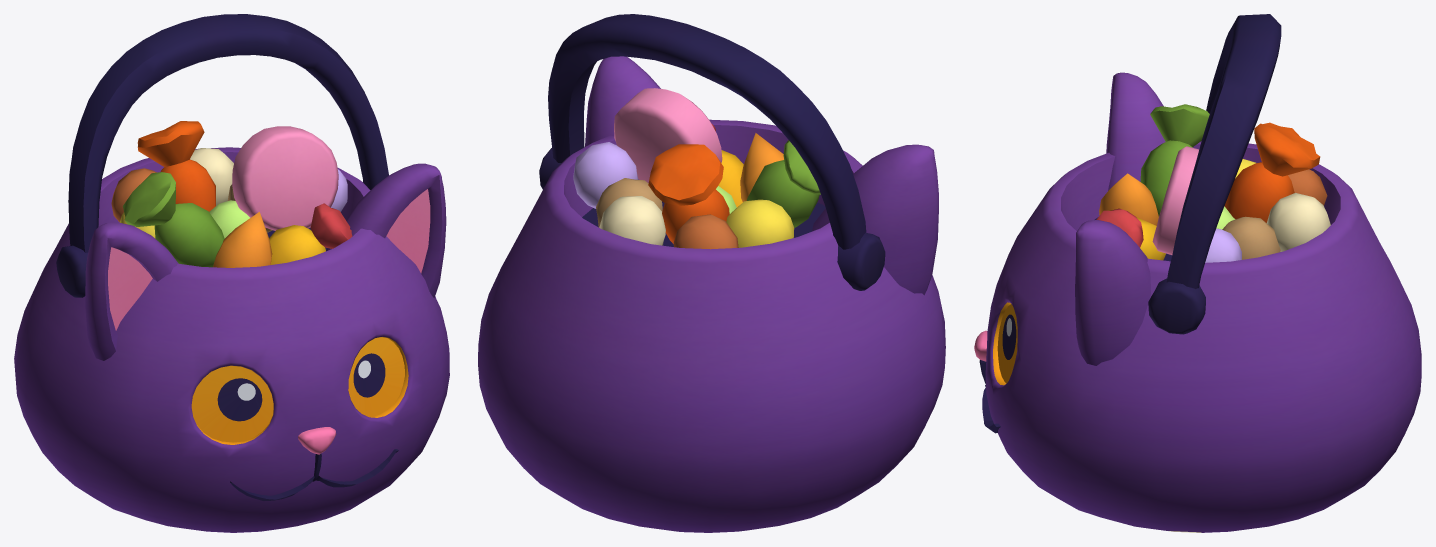
The model's file is WBA_CandyBucket_Set_03.fbx.
The picture shows the model from 3 angles, left to right: view 1: azimuth 30°, elevation 25°; view 2: azimuth 150°, elevation 25°; view 3: azimuth 270°, elevation 25°; orthographic projection. The views are drawn at different scales.
Parts seen in each view (by area): view 1: WBA_CandyBucket_Set_03; view 2: WBA_CandyBucket_Set_03; view 3: WBA_CandyBucket_Set_03.
Boxes of the visible parts, <box> form: WBA_CandyBucket_Set_03: <box>14,14,449,532</box>; WBA_CandyBucket_Set_03: <box>478,14,945,532</box>; WBA_CandyBucket_Set_03: <box>974,14,1421,532</box>.
Bounding box in the file's own units: 26.17 × 29.02 × 26.39.
